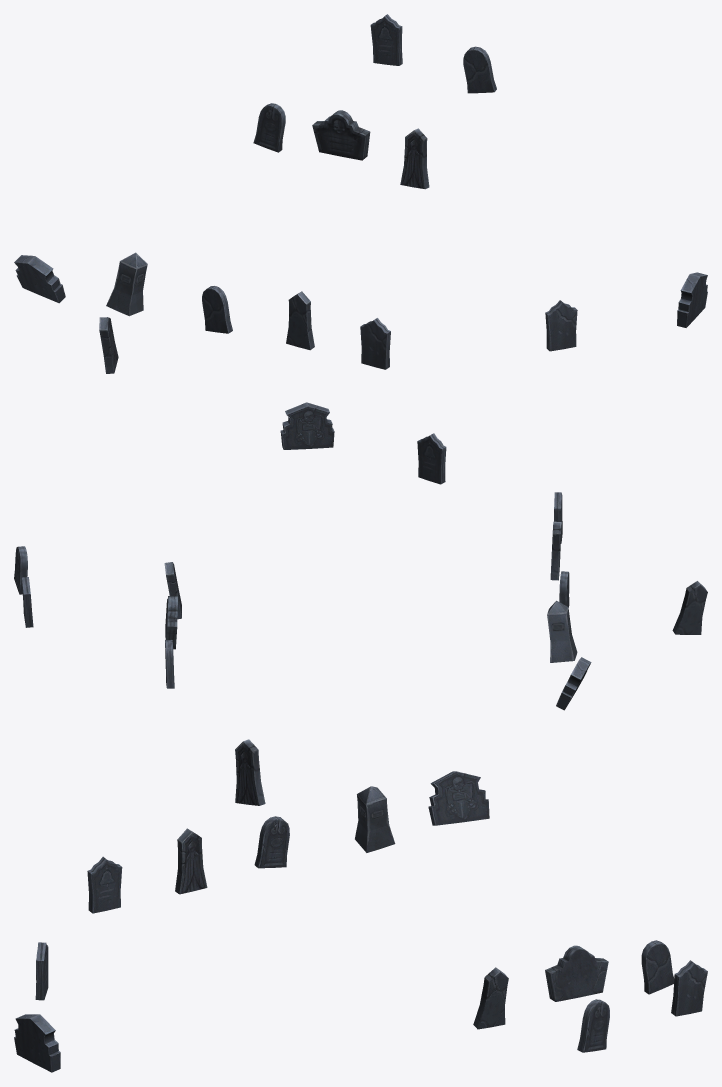
File: object_cemetery.fbx
The picture shows the model from 3 angles, top to bottom: view 1: azimuth 30°, elevation 25°; view 2: azimuth 150°, elevation 25°; view 3: azimuth 270°, elevation 25°; orthographic projection. The views are drawn at different scales.
Visible parts, largest first — view 1: Material_#238683260/cemetary_01_mat; view 2: Material_#238683260/cemetary_01_mat; view 3: Material_#238683260/cemetary_01_mat.
Part boxes in pixels (x1,y1,x2,y2): Material_#238683260/cemetary_01_mat: (14, 14, 707, 373); Material_#238683260/cemetary_01_mat: (14, 402, 707, 710); Material_#238683260/cemetary_01_mat: (14, 739, 707, 1072).
Bounding box in the file's own units: 20.32 × 3.29 × 20.04.
